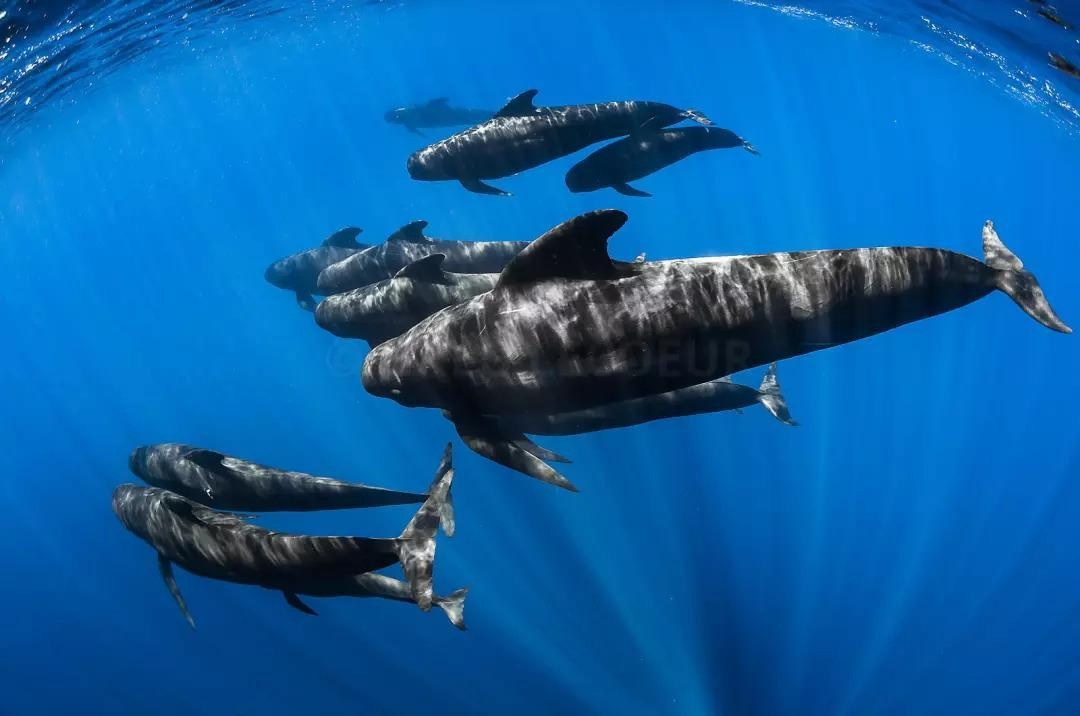fish: (357, 204, 1057, 481), (112, 480, 448, 618), (407, 69, 719, 196), (127, 434, 460, 540), (315, 261, 586, 341), (564, 125, 762, 204), (263, 221, 432, 301)
